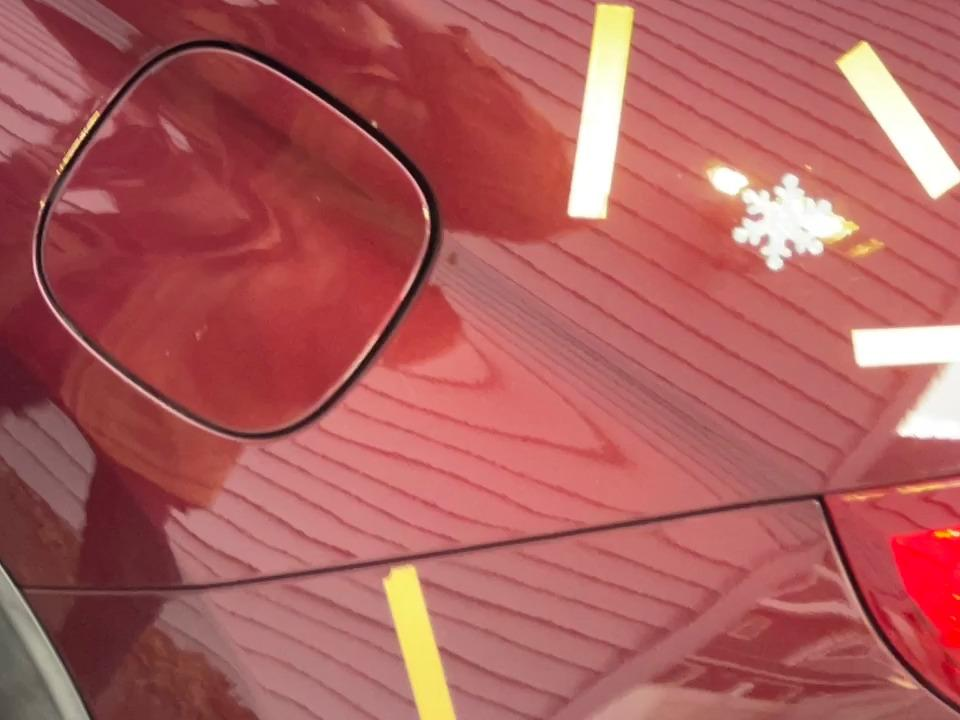dent: (729, 166, 845, 286)
scratch: (838, 33, 960, 202), (371, 556, 483, 720), (558, 0, 638, 220)
